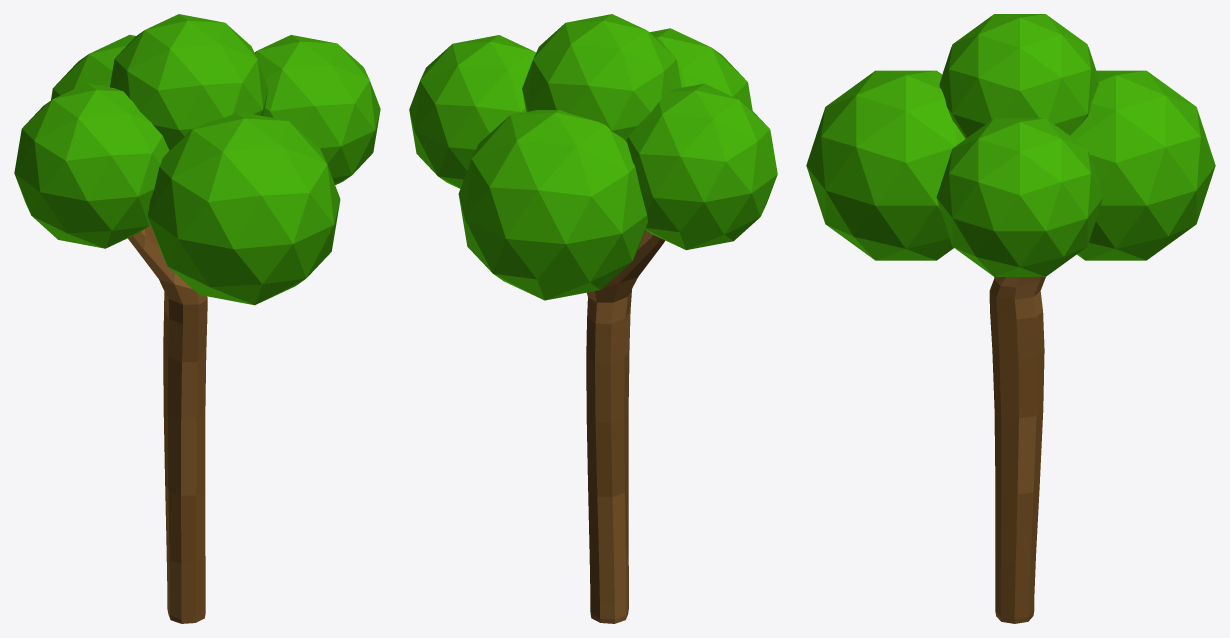
File: arbol.glb
3 renders of one model, left to right at view 1: azimuth 30°, elevation 25°; view 2: azimuth 150°, elevation 25°; view 3: azimuth 270°, elevation 25°, orthographic.
Visible parts, largest first — view 1: Icosphere.002, Icosphere, tronco, Icosphere.001, Icosphere.003, Icosphere.004; view 2: Icosphere.004, Icosphere, tronco, Icosphere.001, Icosphere.003, Icosphere.002; view 3: Icosphere.002, Icosphere.003, Icosphere.004, tronco, Icosphere.001.
Part boxes in pixels (box(x1,y1,x2,y2)): Icosphere.002: box(147, 112, 340, 305); Icosphere: box(14, 83, 169, 248); tronco: box(128, 225, 207, 623); Icosphere.001: box(110, 14, 268, 149); Icosphere.003: box(254, 35, 380, 184); Icosphere.004: box(51, 35, 135, 99); Icosphere.004: box(458, 110, 647, 300); Icosphere: box(626, 83, 777, 250); tronco: box(586, 230, 665, 623); Icosphere.001: box(522, 14, 681, 141); Icosphere.003: box(409, 35, 535, 188); Icosphere.002: box(650, 28, 752, 110); Icosphere.002: box(806, 70, 965, 260); Icosphere.003: box(936, 118, 1103, 276); Icosphere.004: box(1070, 70, 1215, 260); tronco: box(989, 277, 1045, 623); Icosphere.001: box(939, 14, 1098, 138).
Size of the model in its own units: 2.25 by 3.75 by 2.32.
